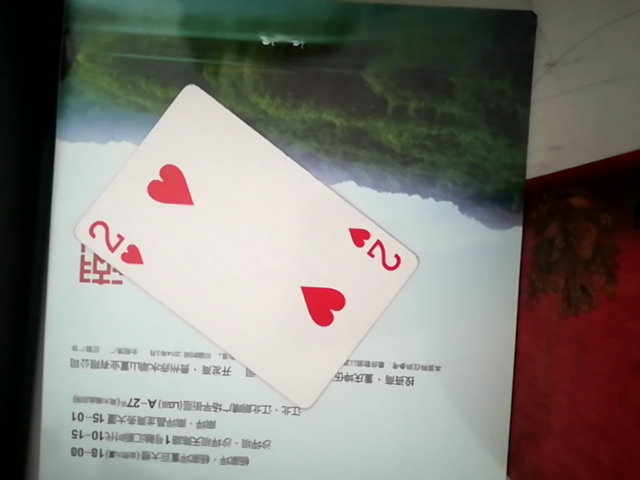hx 2: (54, 81, 424, 400)
